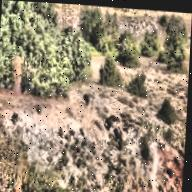boar: (81, 88, 92, 109), (101, 112, 111, 132), (112, 123, 117, 140), (118, 130, 120, 139)
